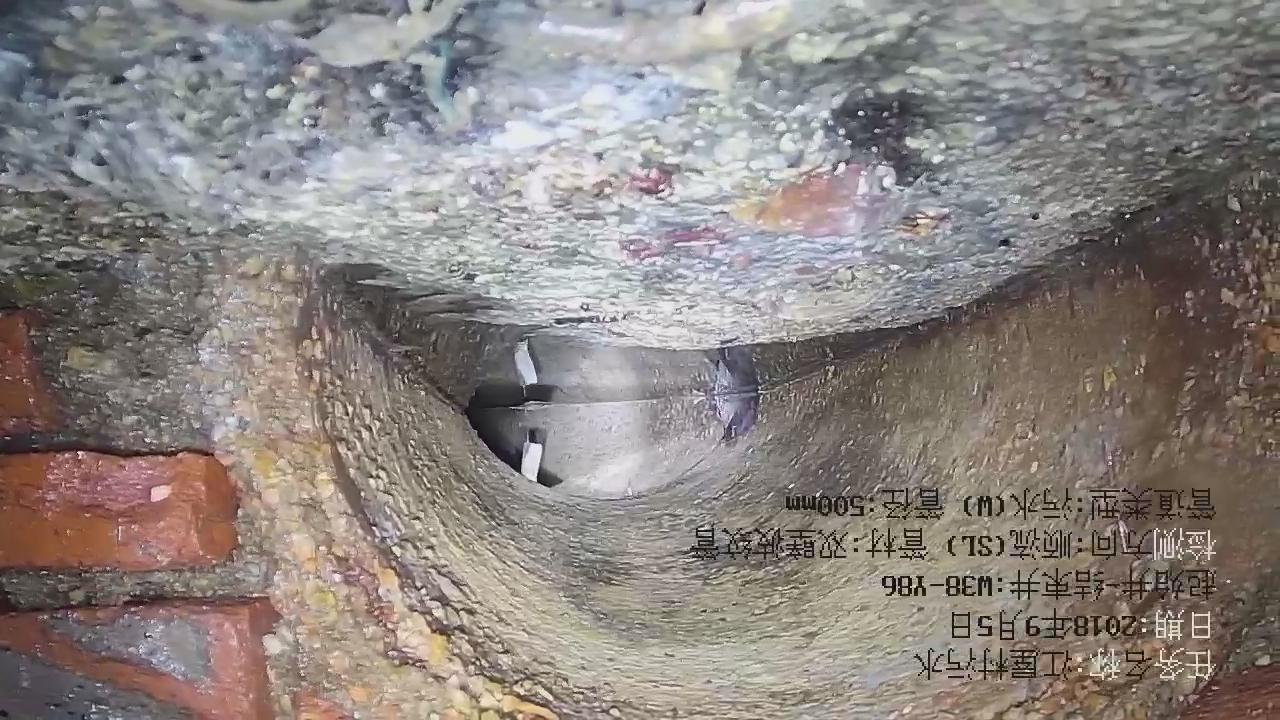FZ: (1, 1, 1280, 348)
